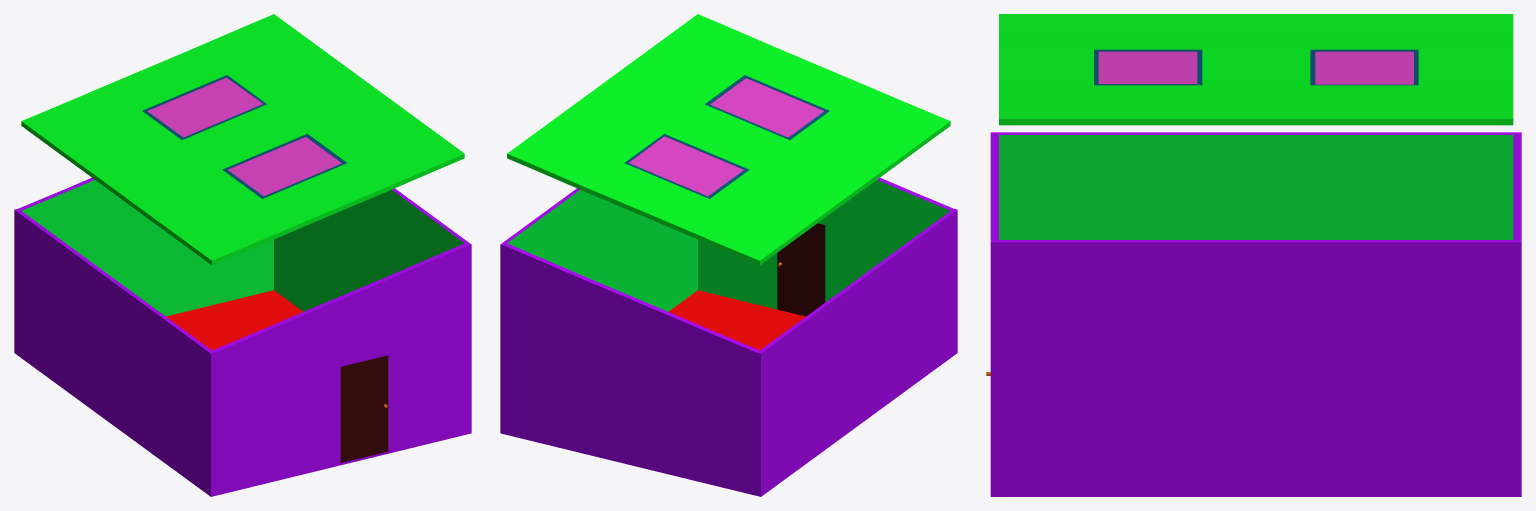
Rendered from RoomShell.FBX.
The picture shows the model from 3 angles, left to right: view 1: azimuth 30°, elevation 25°; view 2: azimuth 150°, elevation 25°; view 3: azimuth 270°, elevation 25°; orthographic projection. The views are drawn at different scales.
Parts seen in each view (by area): view 1: RoomShell, Roof; view 2: RoomShell, Roof; view 3: RoomShell, Roof.
Part boxes in pixels (x1,y1,x2,y2): RoomShell: [14, 178, 471, 496]; Roof: [21, 14, 464, 265]; RoomShell: [500, 177, 957, 496]; Roof: [507, 14, 950, 265]; RoomShell: [986, 132, 1521, 496]; Roof: [999, 14, 1513, 125].
Size of the model in its own units: 118 by 120 by 156.
